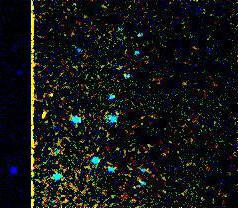star: (32, 102, 62, 132)
